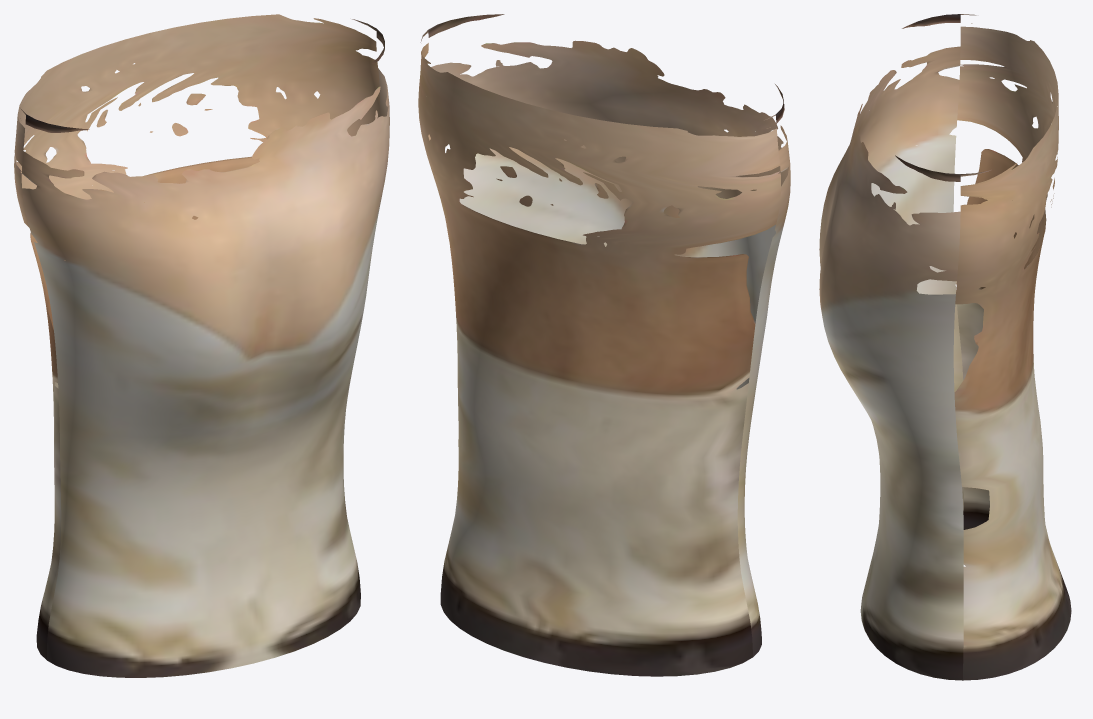
Rendered from prod-ae-butter-silk-cami.glb.
3 views of the same model, side by side, from view 1: azimuth 30°, elevation 25°; view 2: azimuth 150°, elevation 25°; view 3: azimuth 270°, elevation 25° (orthographic). The views are drawn at different scales.
Visible parts, largest first — view 1: prod-ae-butter-silk-cami; view 2: prod-ae-butter-silk-cami; view 3: prod-ae-butter-silk-cami.
Part boxes in pixels (<box>): prod-ae-butter-silk-cami: <box>14,14,389,677</box>; prod-ae-butter-silk-cami: <box>418,14,790,676</box>; prod-ae-butter-silk-cami: <box>819,14,1071,680</box>.
Bounding box in the file's own units: 0.2262 × 0.3492 × 0.1512.
1 material, 1 textured.
